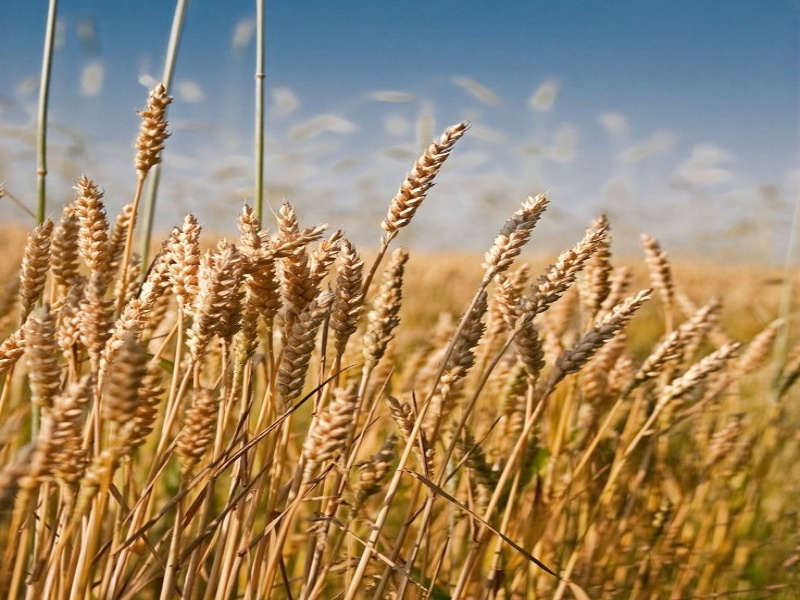wheat: (9, 168, 133, 503), (138, 196, 371, 373), (621, 287, 755, 406), (515, 206, 636, 322), (537, 287, 654, 404), (373, 118, 476, 243), (425, 287, 505, 423), (469, 182, 565, 287), (353, 244, 421, 367), (121, 73, 182, 201), (297, 371, 366, 474), (630, 227, 681, 320)
